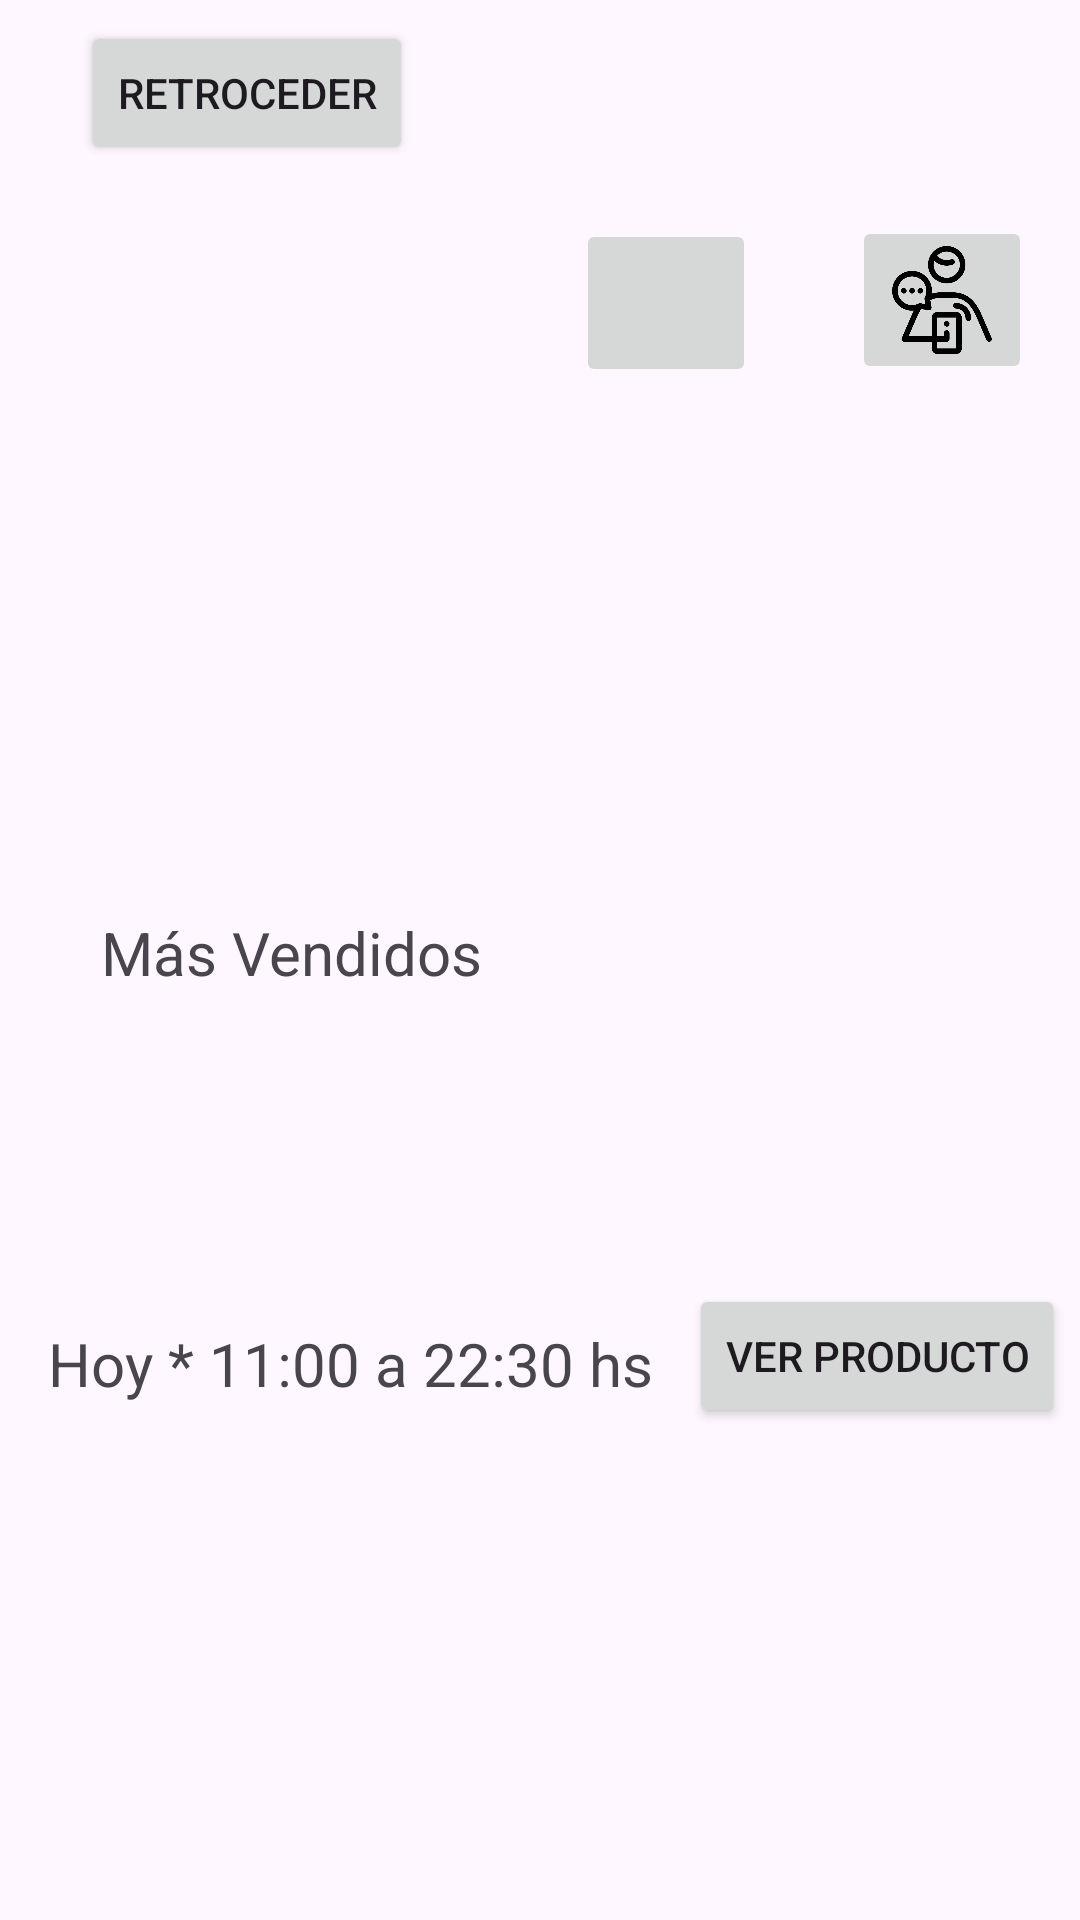

Where to tap for icons on this 1080px×1920px app screen, as point (x, y):
chat: point (942, 300)
